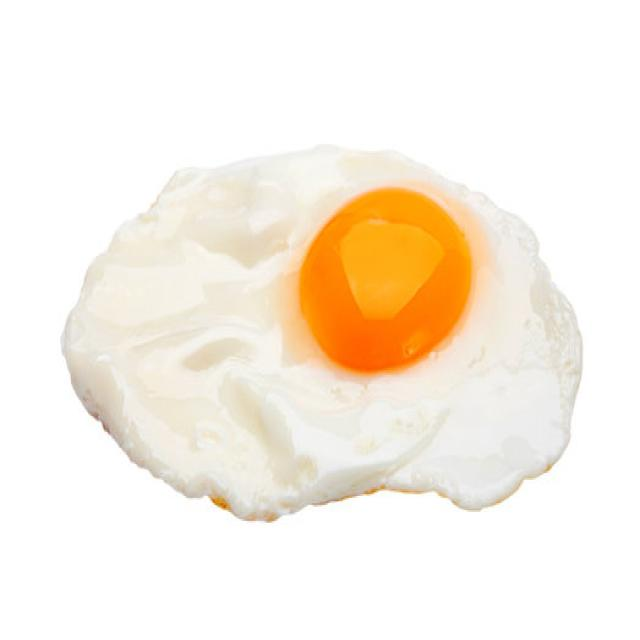Egg: (62, 147, 581, 519)
